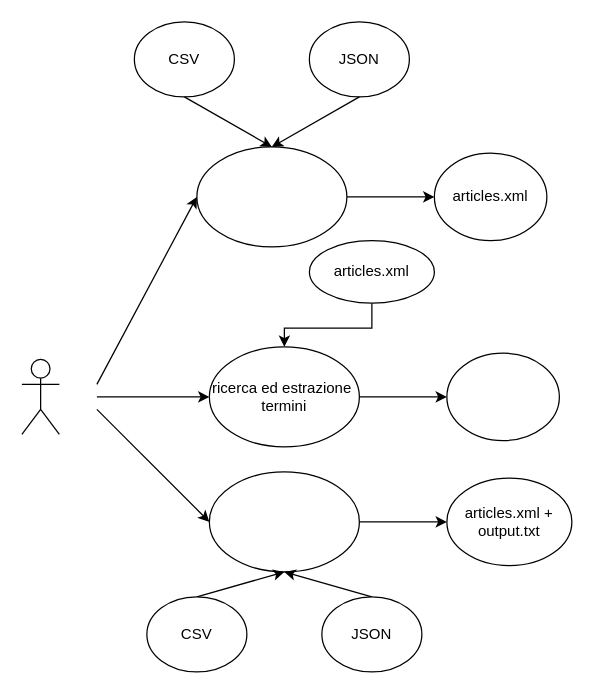
The diagram is 594 pixels wide and 694 high, and some of its shapes have lost their labels. Each missing label, with the box of its shape:
output.txt: (446, 352, 559, 441)
serializzazione articoli: (196, 146, 347, 247)
serializzazione ed estrazione: (208, 471, 359, 572)
User: (21, 358, 59, 434)
